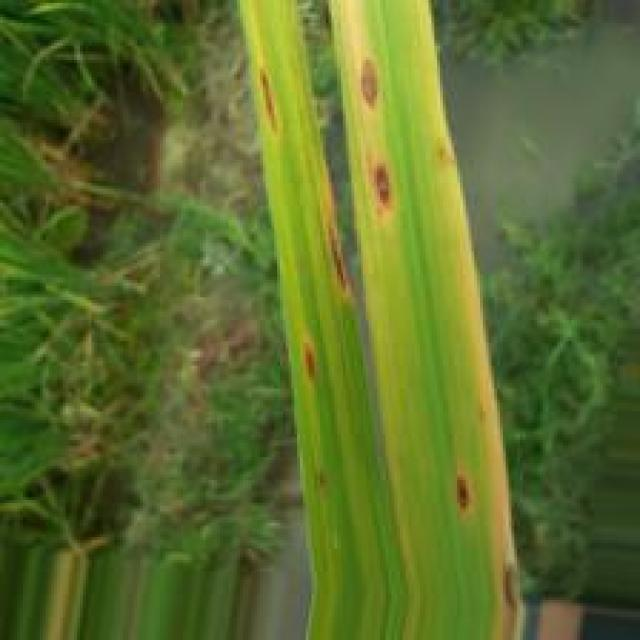Brown_Spot: (326, 212, 353, 300), (497, 556, 528, 617), (352, 53, 378, 112), (255, 69, 277, 136), (449, 473, 475, 517), (374, 166, 389, 220), (301, 345, 318, 383)
